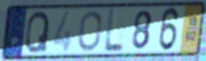4: (52, 10, 74, 54)
6: (158, 6, 180, 53)
8: (131, 9, 153, 51)
L: (102, 8, 125, 54)
O: (77, 10, 103, 53)
Q: (23, 9, 51, 55)
